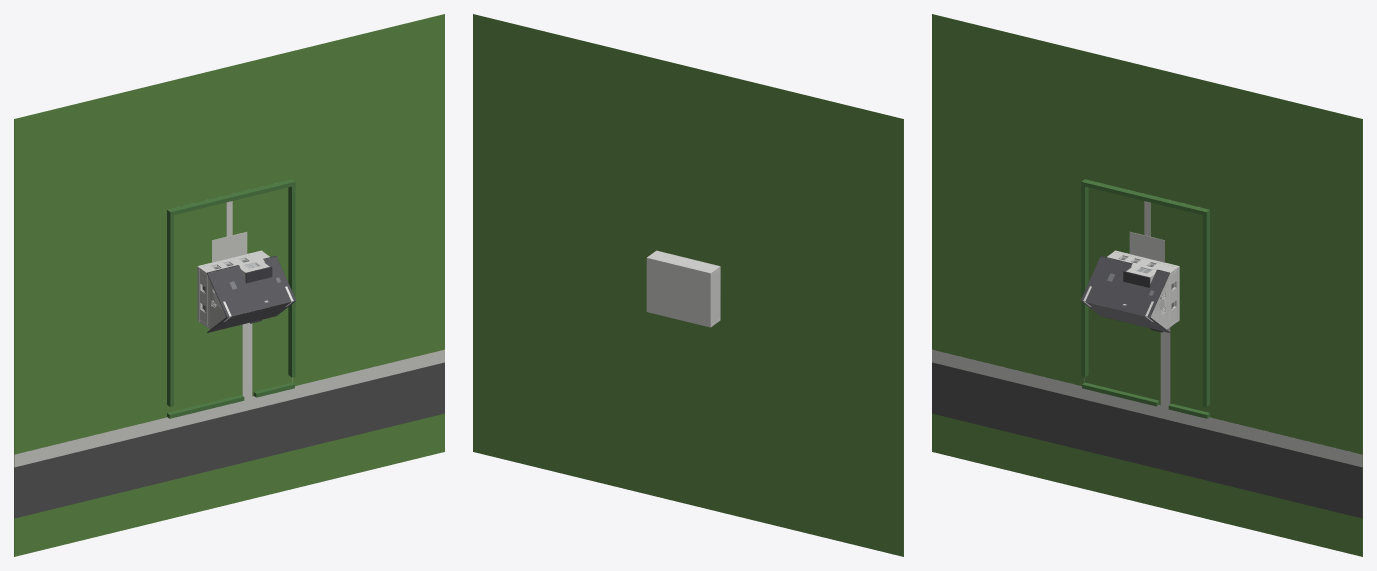
File: beethoven9.glb
3 renders of one model, left to right at view 1: azimuth 30°, elevation 25°; view 2: azimuth 150°, elevation 25°; view 3: azimuth 330°, elevation 25°, orthographic.
Visible parts, largest first — view 1: T173 Rasen, T177 Strasse, T176 Gehweg, T21 Walmdach 50 Grad (Walm 90) mit First 915 cm, Traufe 355 , T184 Hecke Ost, T183 Hecke West, T185 Hecke Nord, T182 Terrasse Nord, T174 Weg zur Haustuer, T186 Hecke Sued 1; view 2: T173 Rasen, T15 Kellersohle, T12 Kelleraussenwand Nord; view 3: T173 Rasen, T177 Strasse, T176 Gehweg, T21 Walmdach 50 Grad (Walm 90) mit First 915 cm, Traufe 355 , T183 Hecke West, T184 Hecke Ost, T185 Hecke Nord, T174 Weg zur Haustuer, T182 Terrasse Nord, T186 Hecke Sued 1.
Part boxes in pixels (bbox=[...]): T173 Rasen: bbox=[14, 14, 444, 556]; T177 Strasse: bbox=[14, 362, 444, 518]; T176 Gehweg: bbox=[14, 349, 444, 467]; T21 Walmdach 50 Grad (Walm 90) mit First 915 cm, Traufe 355 : bbox=[208, 256, 296, 332]; T184 Hecke Ost: bbox=[288, 179, 295, 377]; T183 Hecke West: bbox=[167, 209, 173, 407]; T185 Hecke Nord: bbox=[167, 180, 295, 214]; T182 Terrasse Nord: bbox=[212, 232, 247, 262]; T174 Weg zur Haustuer: bbox=[242, 322, 252, 398]; T186 Hecke Sued 1: bbox=[167, 395, 244, 418]; T173 Rasen: bbox=[473, 14, 903, 556]; T15 Kellersohle: bbox=[646, 257, 711, 327]; T12 Kelleraussenwand Nord: bbox=[648, 250, 719, 274]; T173 Rasen: bbox=[932, 14, 1362, 556]; T177 Strasse: bbox=[932, 362, 1362, 518]; T176 Gehweg: bbox=[932, 349, 1362, 467]; T21 Walmdach 50 Grad (Walm 90) mit First 915 cm, Traufe 355 : bbox=[1080, 256, 1168, 332]; T183 Hecke West: bbox=[1081, 179, 1088, 377]; T184 Hecke Ost: bbox=[1203, 209, 1209, 407]; T185 Hecke Nord: bbox=[1081, 180, 1209, 215]; T174 Weg zur Haustuer: bbox=[1160, 327, 1170, 407]; T182 Terrasse Nord: bbox=[1129, 232, 1164, 262]; T186 Hecke Sued 1: bbox=[1082, 382, 1159, 406].
Size of the model in its own units: 70.5 by 68.5 by 11.95.
